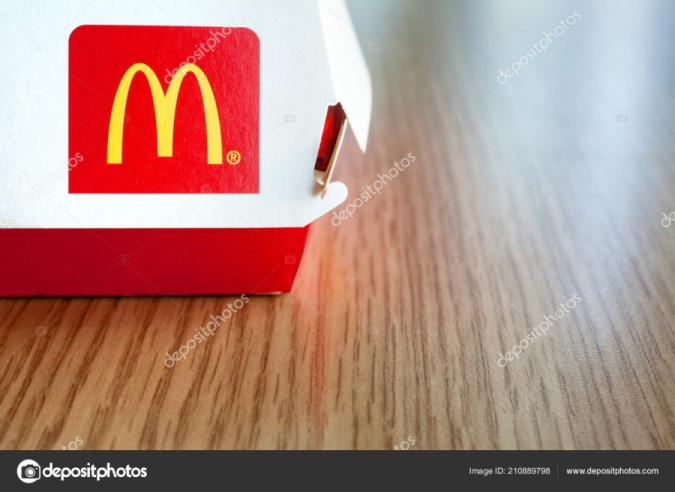mcdonalds: (101, 56, 229, 175)
